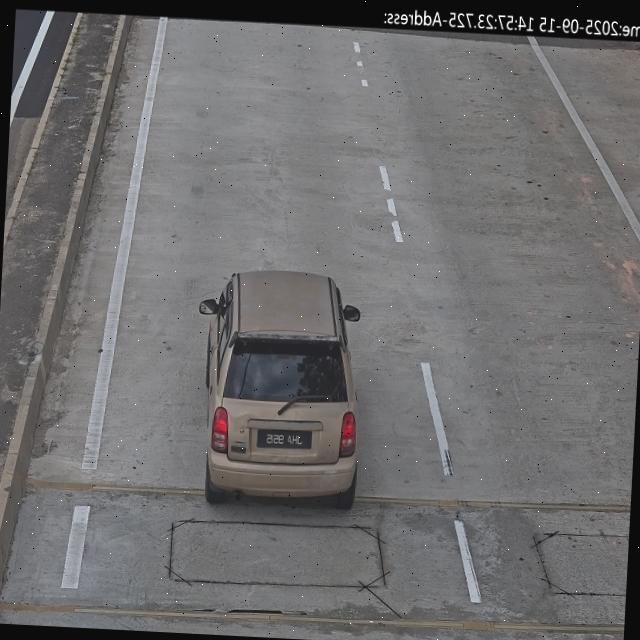back: (246, 426, 314, 458)
